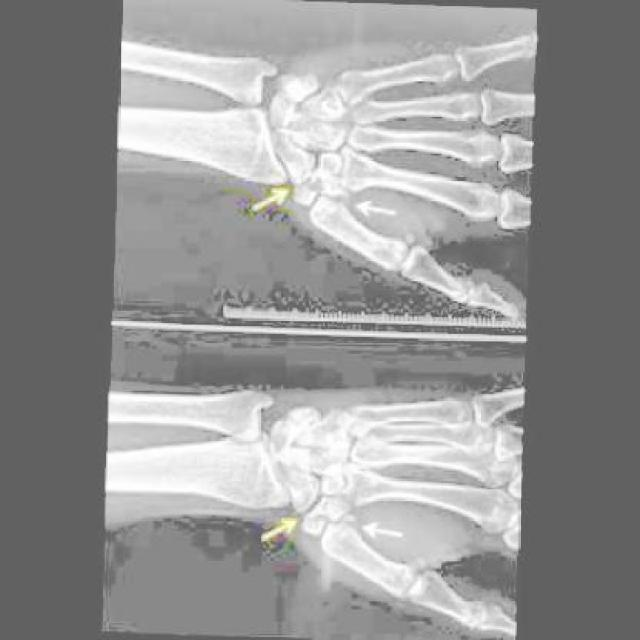Fracture: (295, 501, 334, 537), (291, 174, 324, 216), (335, 505, 371, 536), (318, 190, 357, 216)
